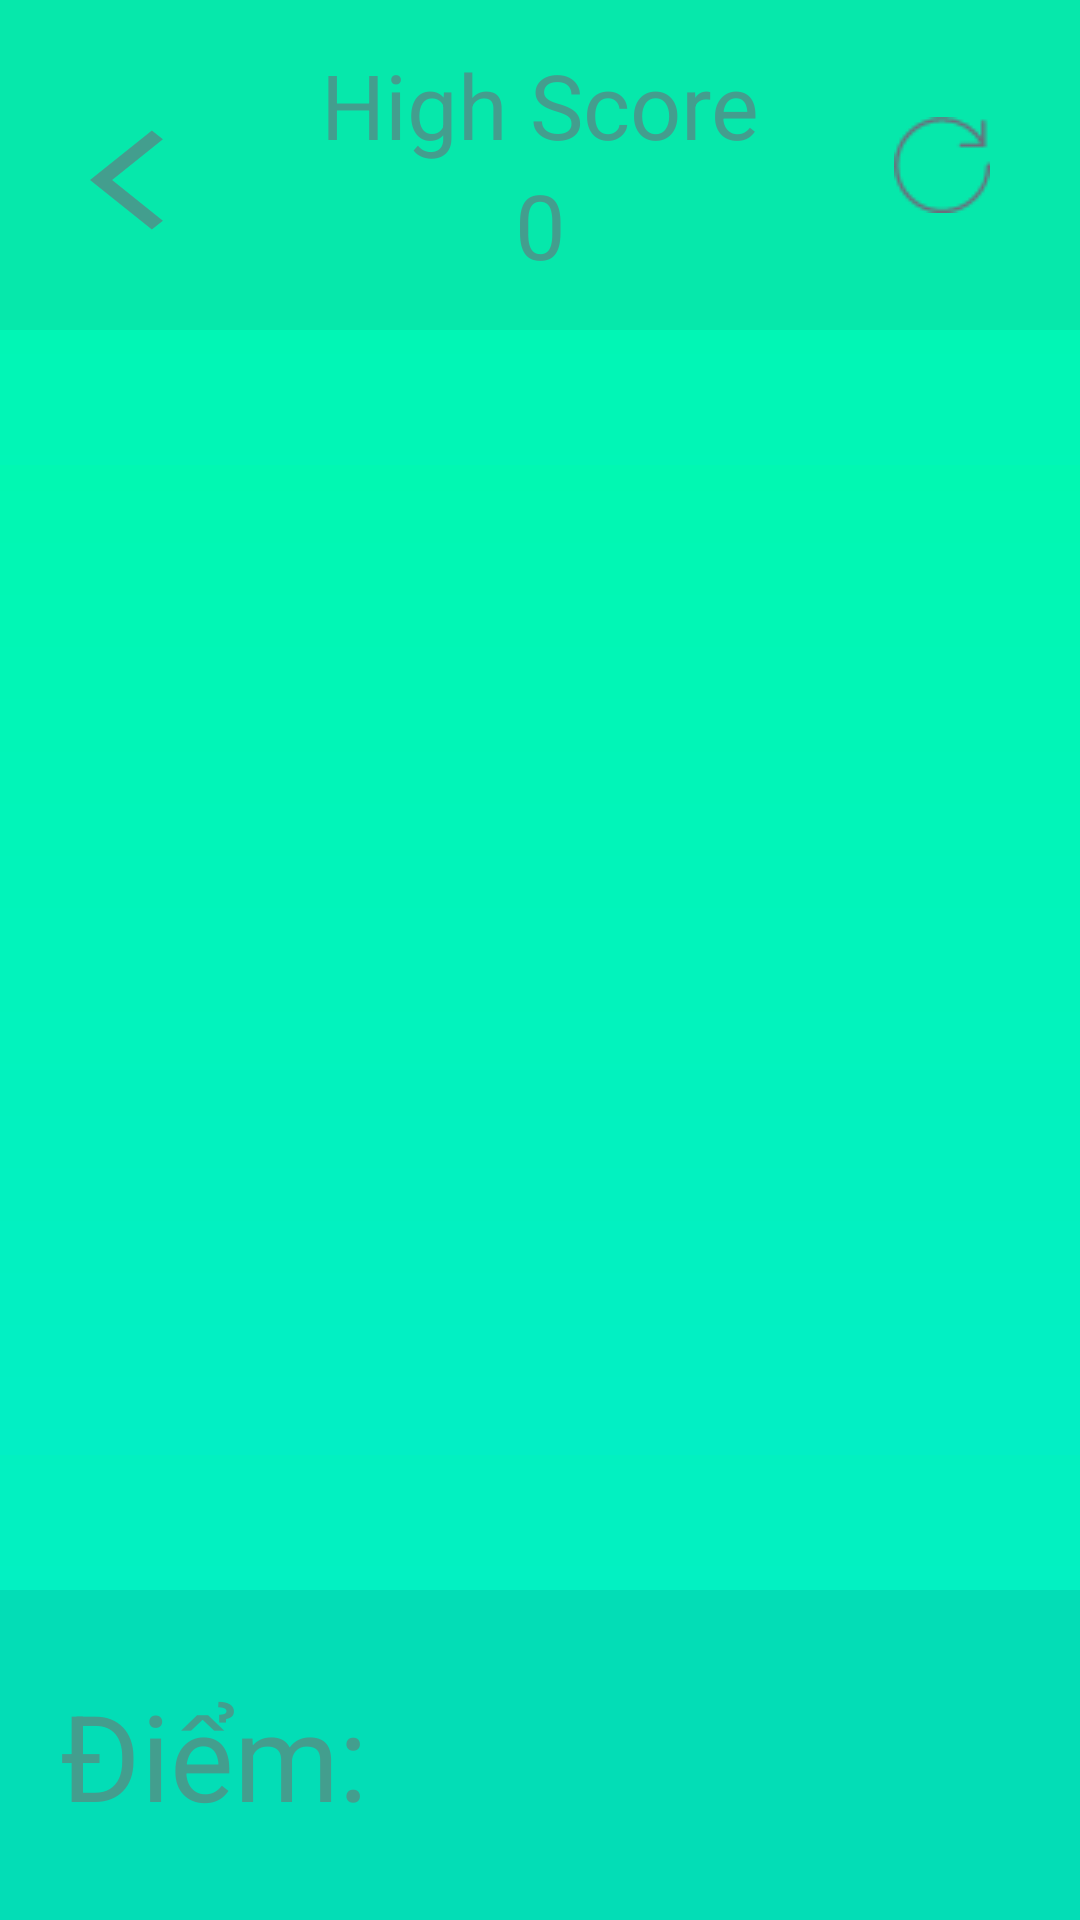

Icons on this 1080w x 1920h Android screen, each with its box as box(x1, y1, x2, y2):
arrow back: box(90, 131, 163, 229)
refresh: box(894, 117, 990, 213)
